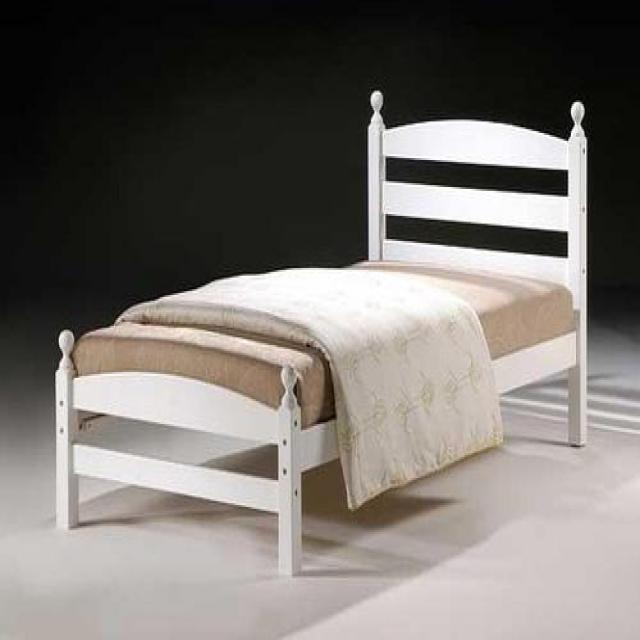bed: (54, 87, 589, 576)
